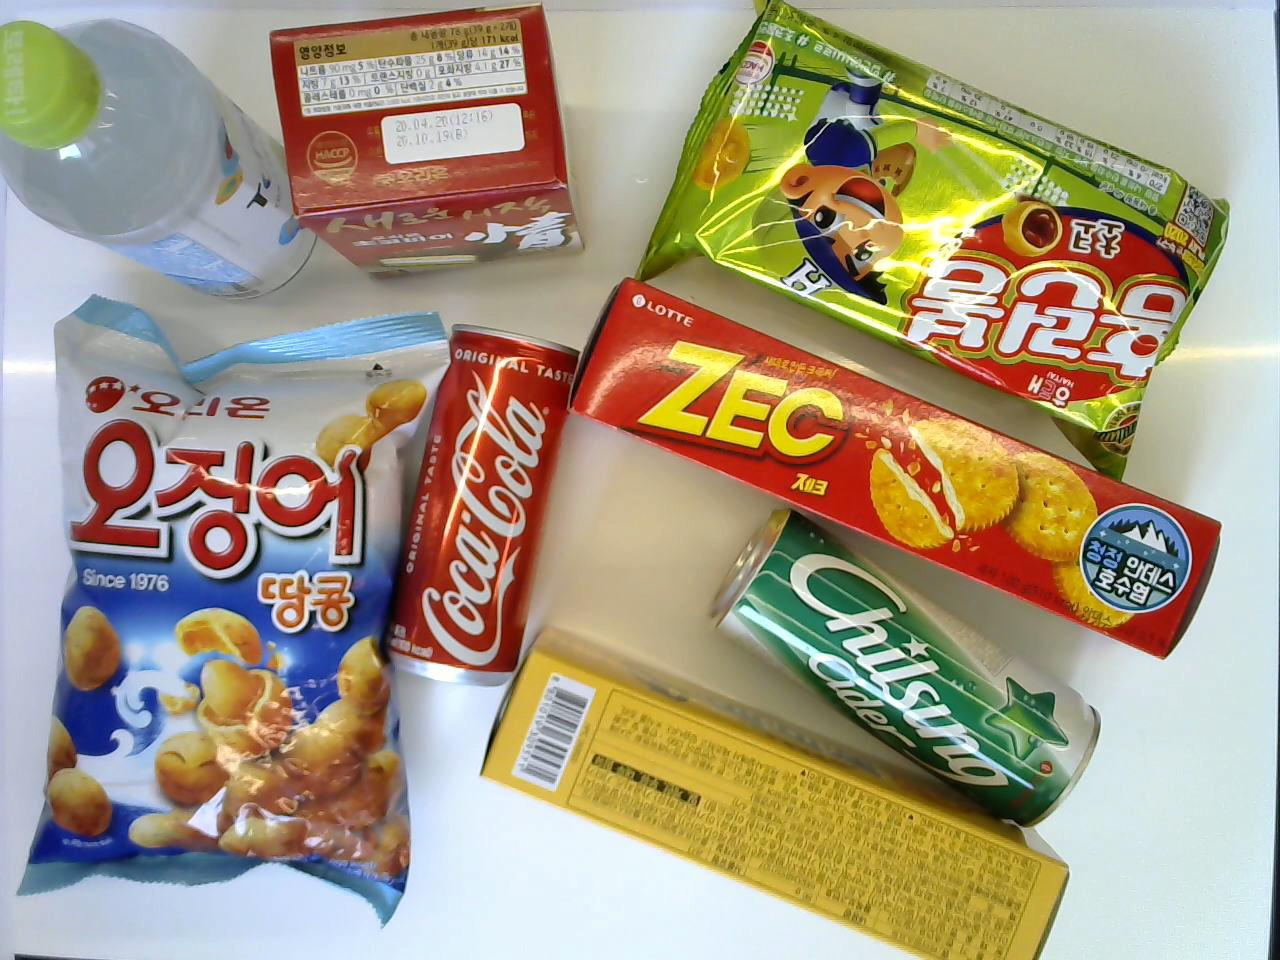buttering: (476, 625, 1072, 959)
chocopie: (266, 5, 588, 274)
cidar: (705, 503, 1105, 828)
coke: (379, 319, 579, 687)
homerunball: (633, 0, 1233, 487)
squid_peanut: (13, 296, 450, 924)
toreta: (1, 13, 316, 306)
zec: (568, 276, 1224, 663)
